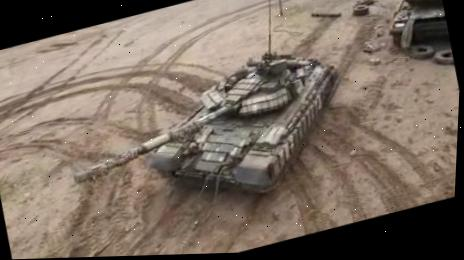tank: (53, 35, 363, 241)
